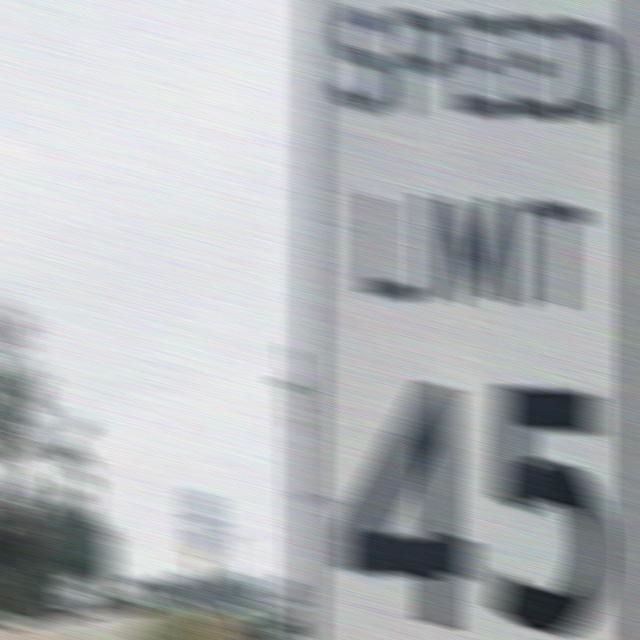speedLimit45: (304, 16, 640, 632)
